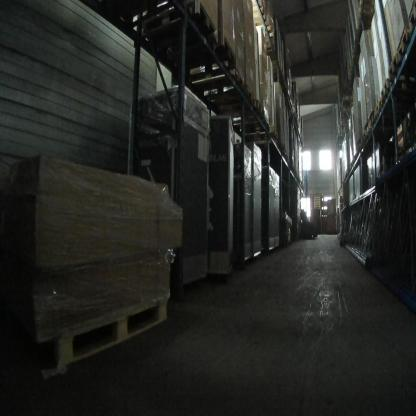pallet: (57, 294, 168, 370), (140, 1, 218, 47), (169, 34, 235, 75), (189, 69, 246, 91), (380, 75, 414, 102), (230, 100, 265, 119), (396, 27, 412, 62), (242, 126, 279, 140), (373, 102, 406, 117), (388, 52, 402, 81), (379, 97, 410, 109), (370, 115, 399, 126), (408, 0, 416, 36), (253, 4, 267, 22), (245, 86, 256, 108), (358, 0, 374, 13), (365, 120, 377, 137), (260, 19, 273, 33)
